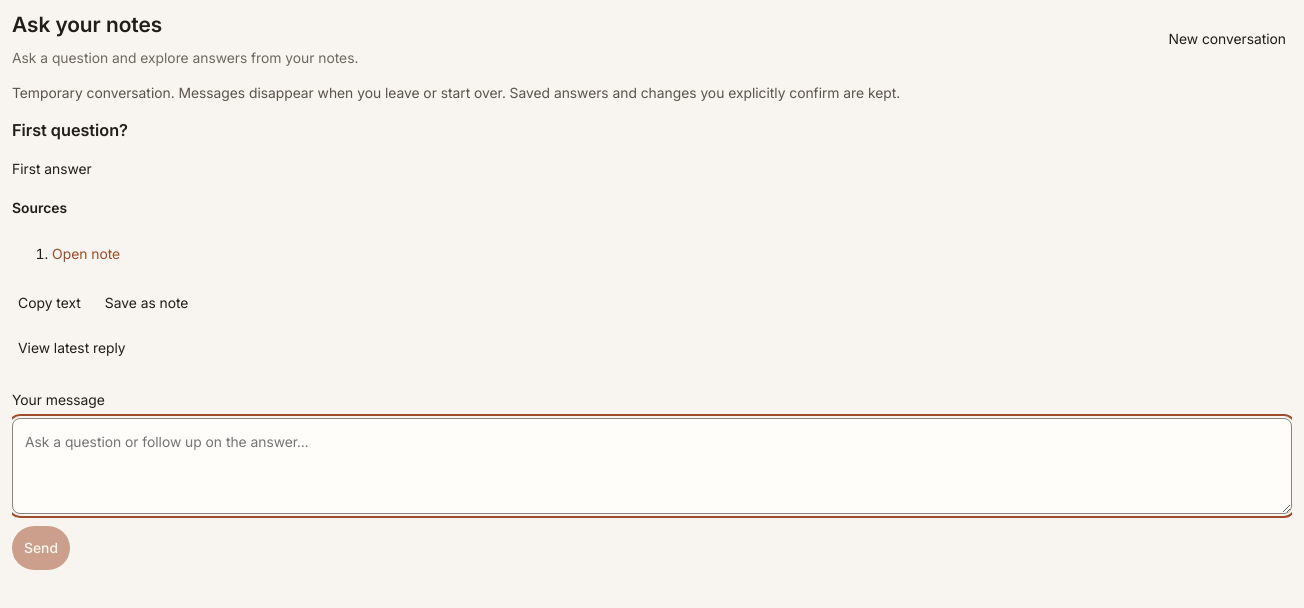
Test: clears while pending, aborts, discards late output and starts without the old handle
Type "What happens next?" into the text box labelled "Your message". click: (652, 466)
box: x1=12 y1=418 x2=1292 y2=514
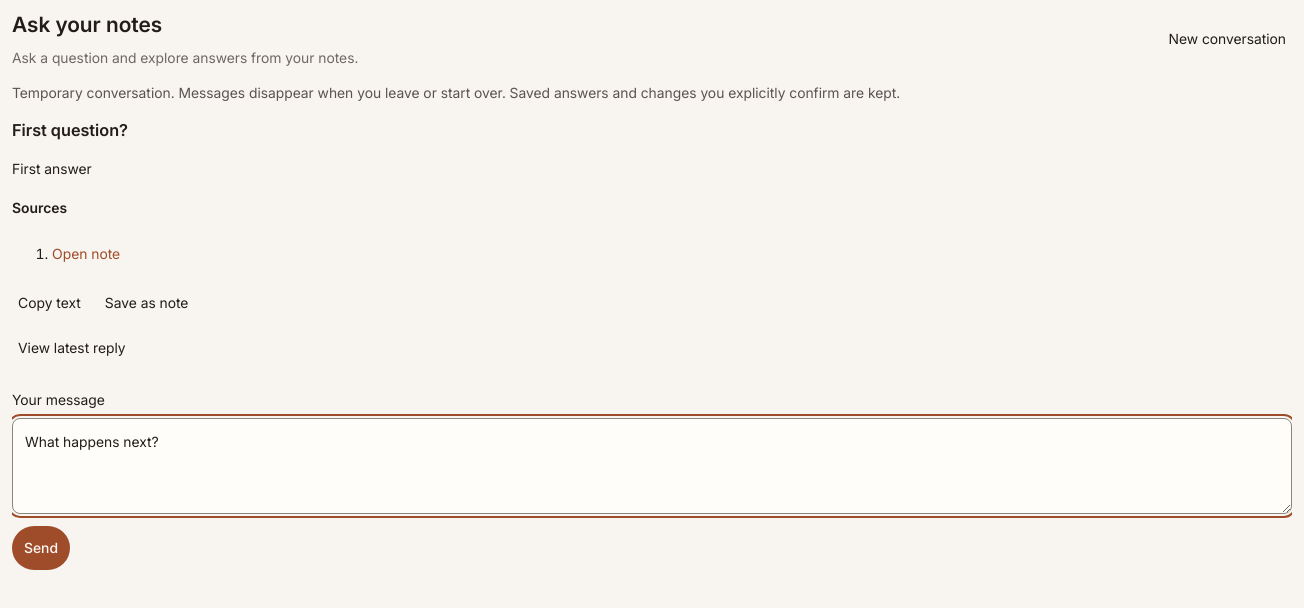
Click the button "Send". click: (41, 548)
box: x1=12 y1=526 x2=70 y2=570
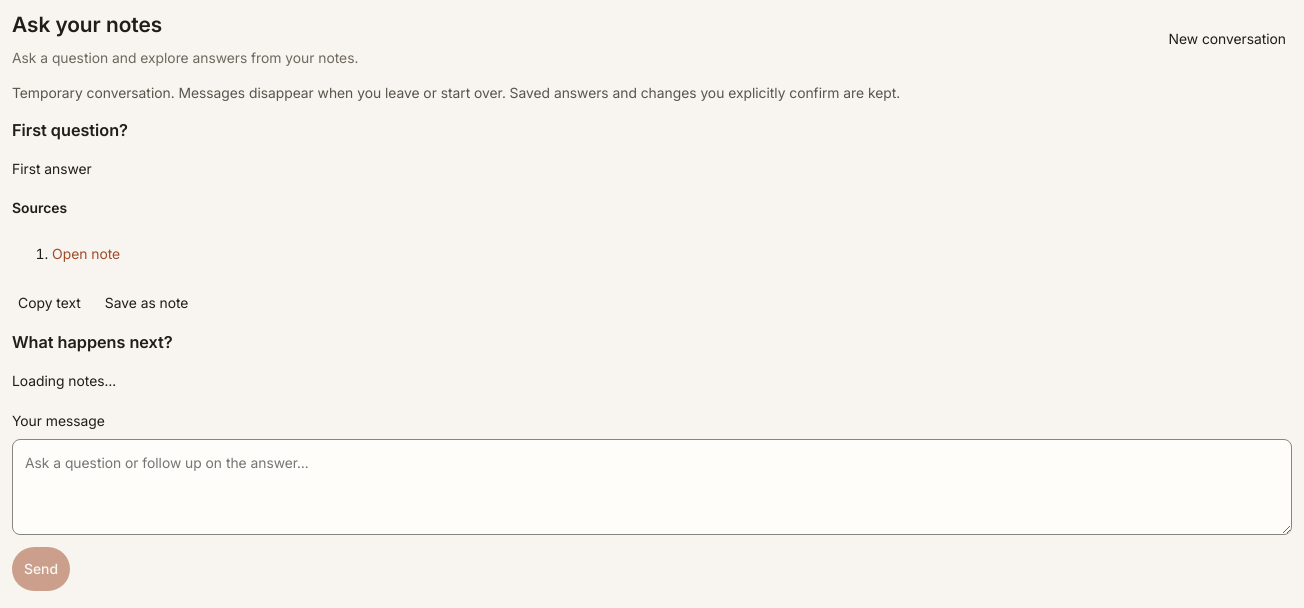
Click the button "New conversation". click: (1227, 39)
box: x1=1162 y1=17 x2=1292 y2=61
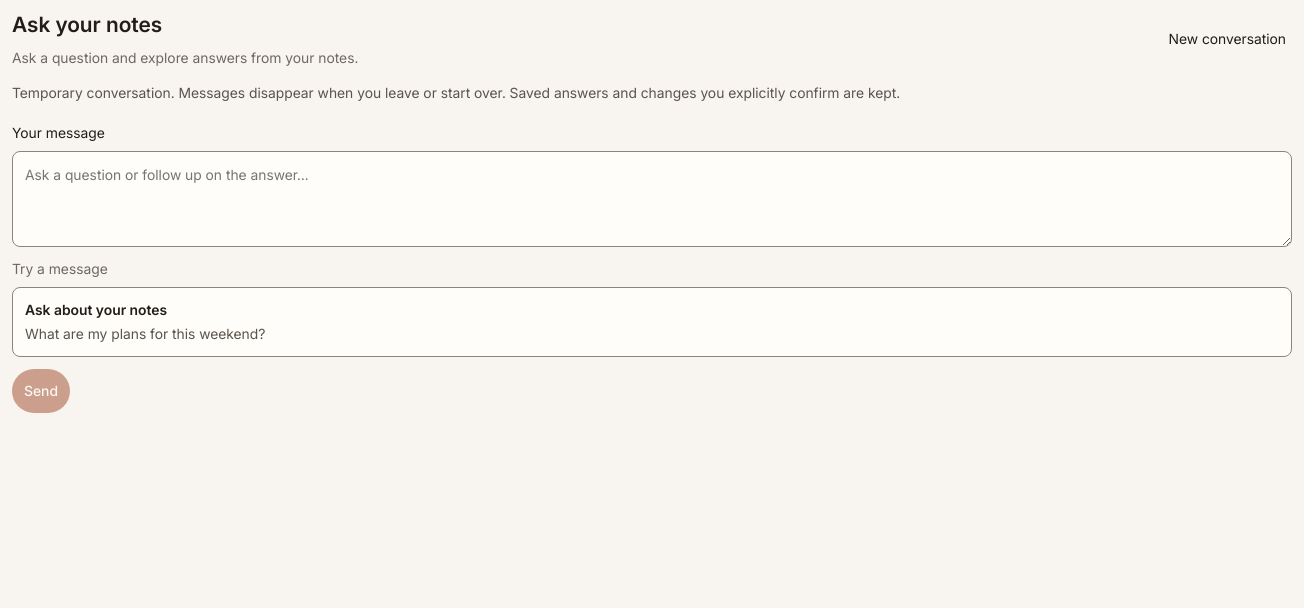
Expected: the text "First answer" is gone
Type "A new question?" into the text box labelled "Your message". click: (652, 199)
box: x1=12 y1=151 x2=1292 y2=247
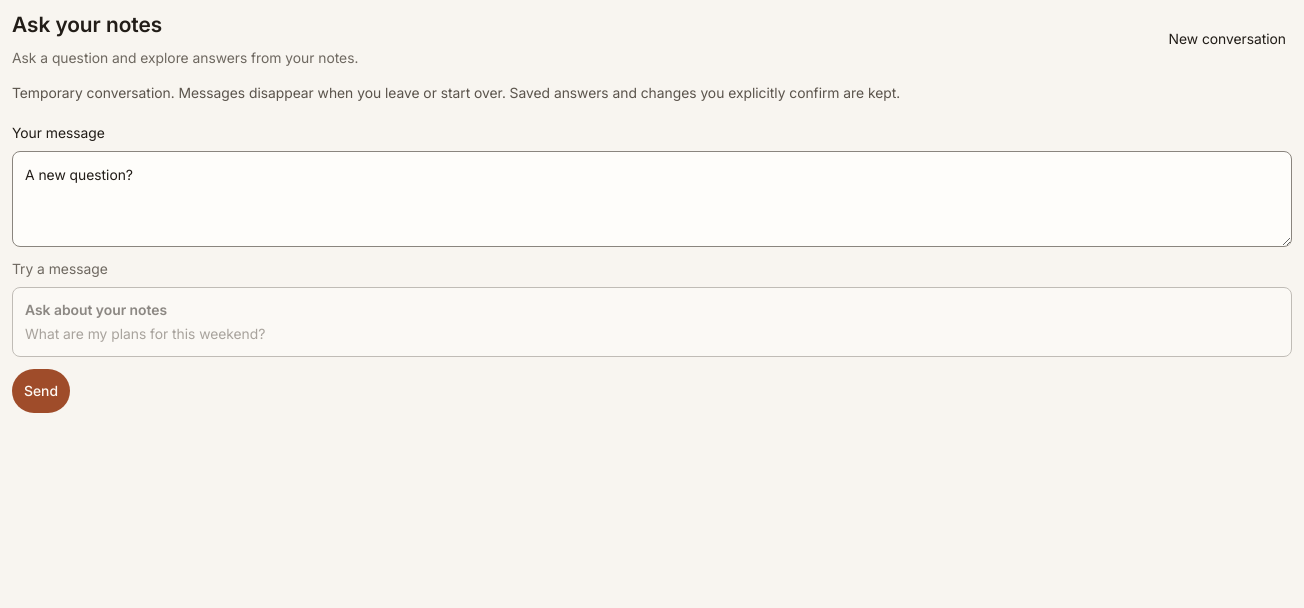
Click the button "Send". click: (41, 391)
box: x1=12 y1=369 x2=70 y2=413
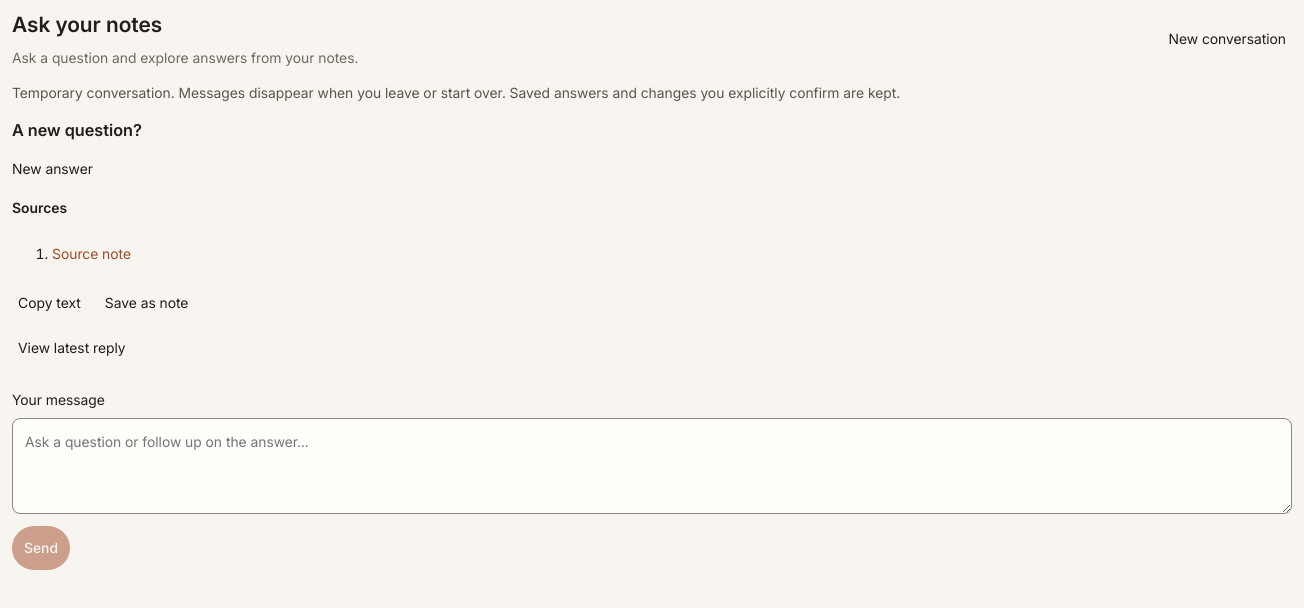
Expected: the text "New answer" is shown, x1=12 y1=160 x2=93 y2=177
